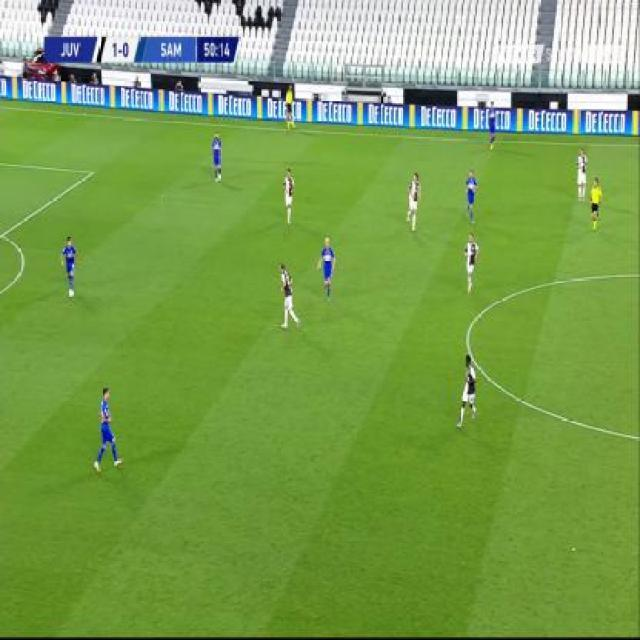ball: (69, 286, 75, 299)
player: (92, 382, 121, 476), (456, 352, 478, 431), (278, 260, 300, 333), (315, 235, 337, 303), (59, 234, 79, 294), (463, 231, 480, 294), (405, 168, 421, 233), (282, 166, 296, 225), (589, 176, 603, 232), (465, 167, 479, 223), (575, 145, 589, 201), (210, 130, 223, 183), (486, 100, 499, 151), (284, 85, 295, 130)
